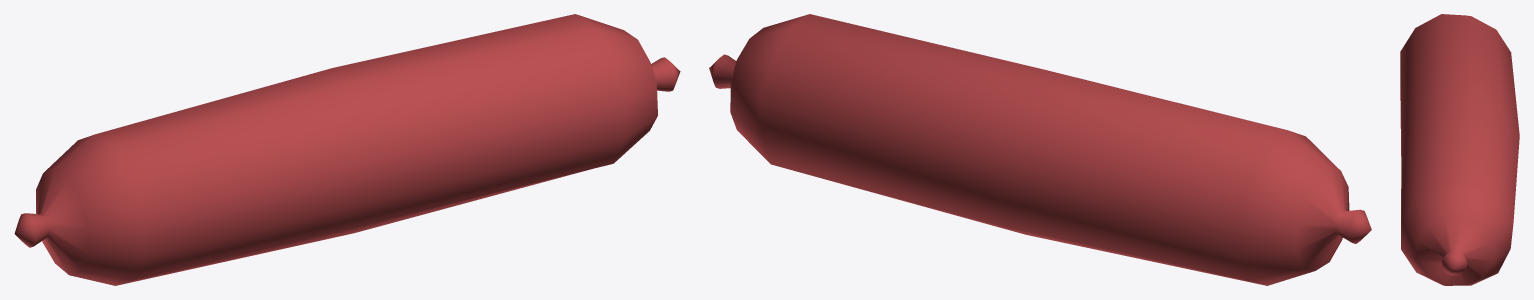
File: chorizo.glb
The picture shows the model from 3 angles, left to right: view 1: azimuth 30°, elevation 25°; view 2: azimuth 150°, elevation 25°; view 3: azimuth 270°, elevation 25°; orthographic projection. The views are drawn at different scales.
Parts seen in each view (by area): view 1: pieza_chorizo; view 2: pieza_chorizo; view 3: pieza_chorizo.
Boxes of the visible parts, x1,y1,x2,y2 form: pieza_chorizo: [14, 14, 680, 285]; pieza_chorizo: [709, 14, 1371, 285]; pieza_chorizo: [1400, 14, 1519, 285].
Bounding box in the file's own units: 0.14 × 0.03 × 0.03.
